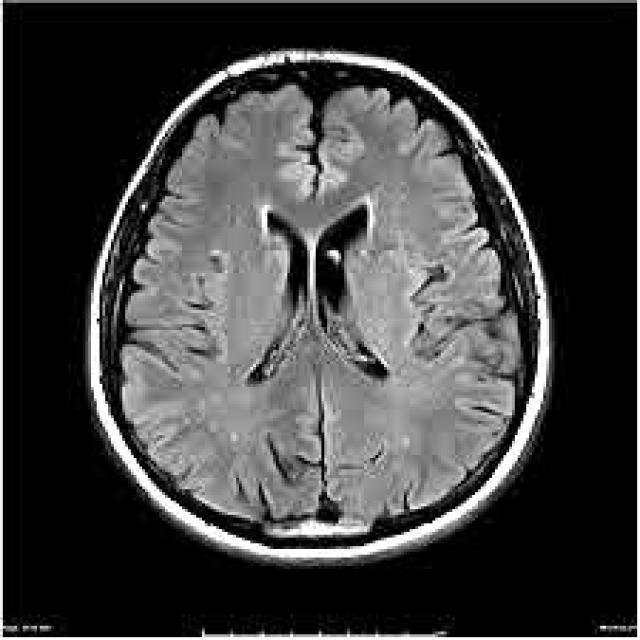notumor: (88, 51, 549, 563)
